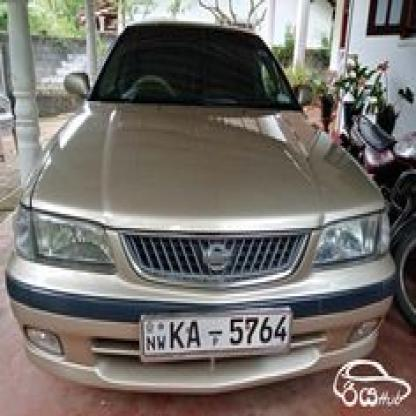car front: (4, 22, 399, 399)
number plate: (142, 315, 288, 353)
